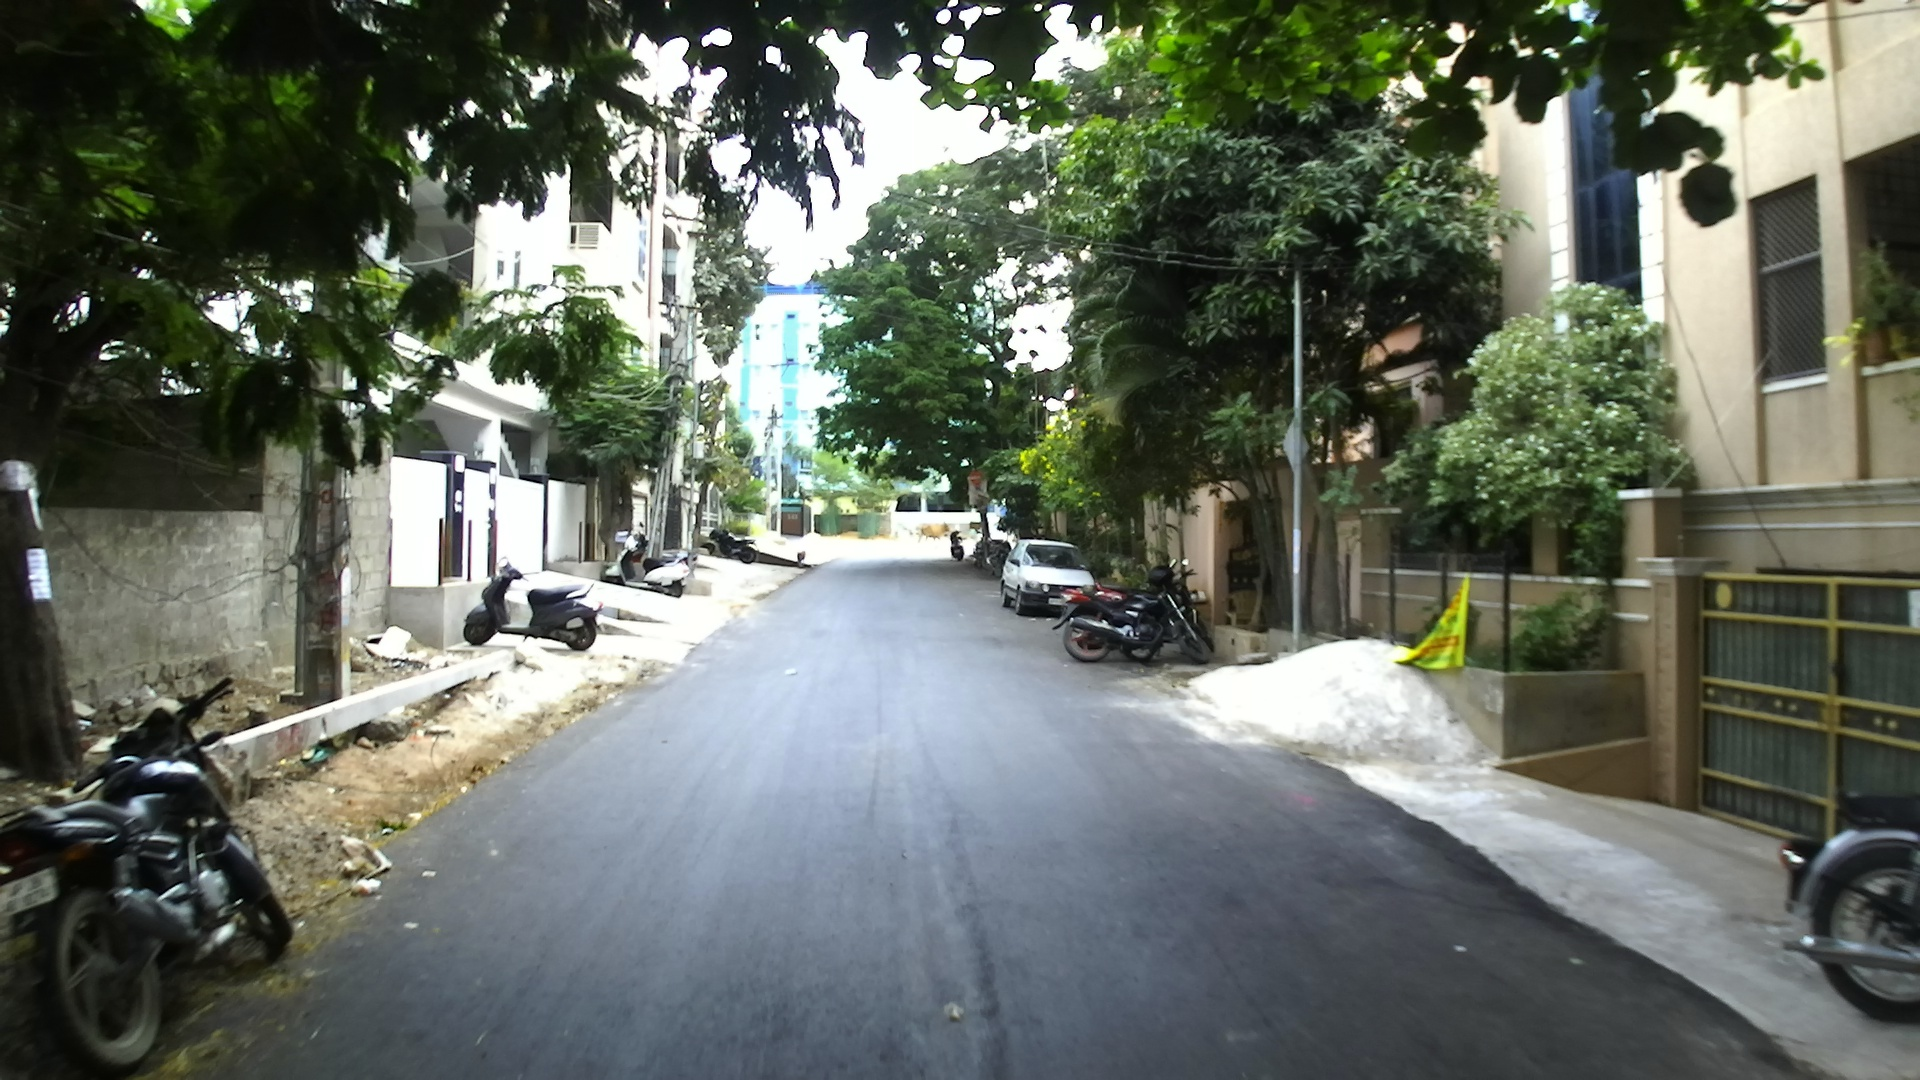vehicle: (0, 670, 297, 1072), (1780, 816, 1919, 1021), (1058, 575, 1212, 669), (1060, 584, 1212, 666), (997, 539, 1095, 618), (621, 545, 695, 593)
